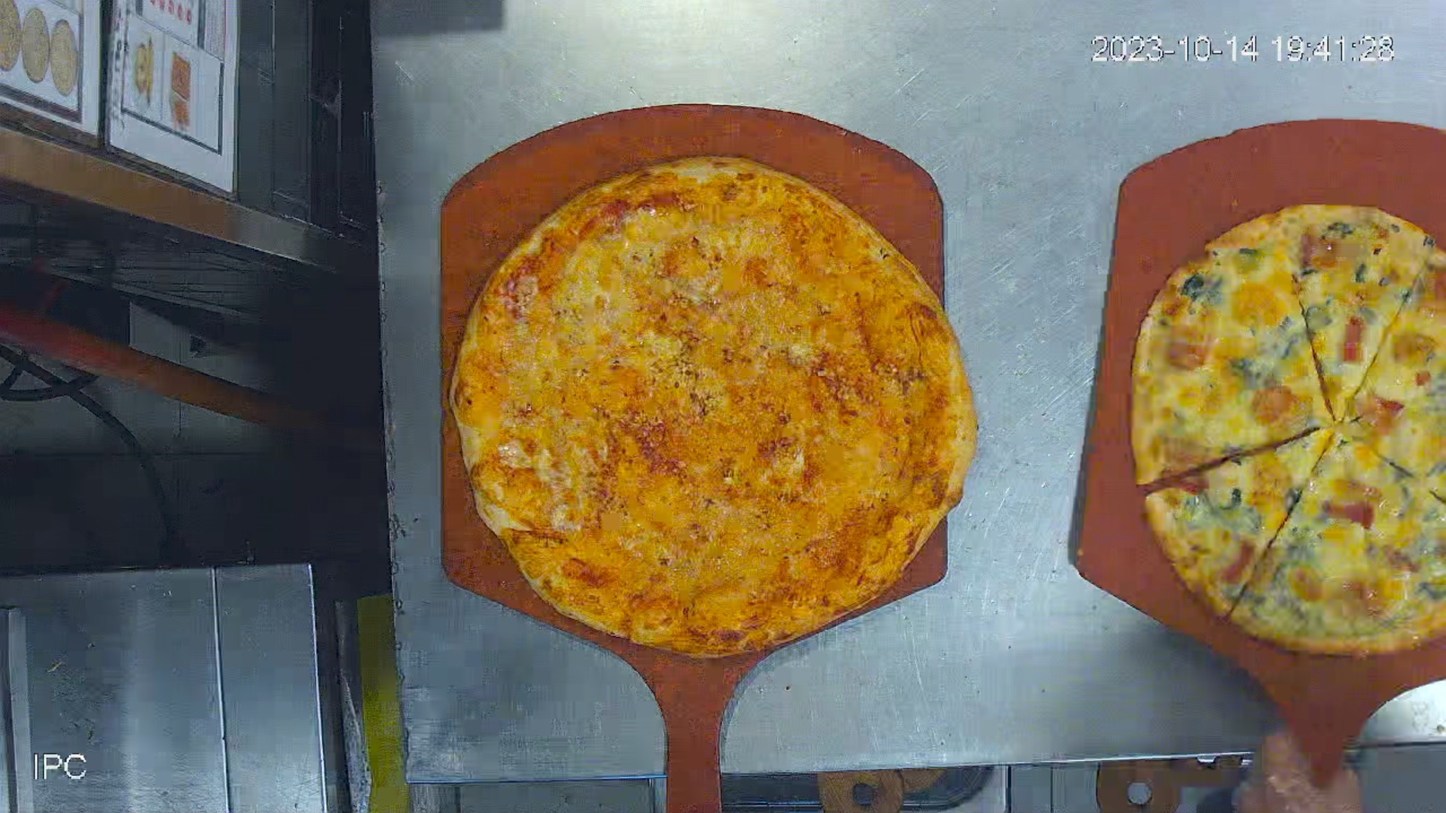bianca: (442, 150, 976, 666)
